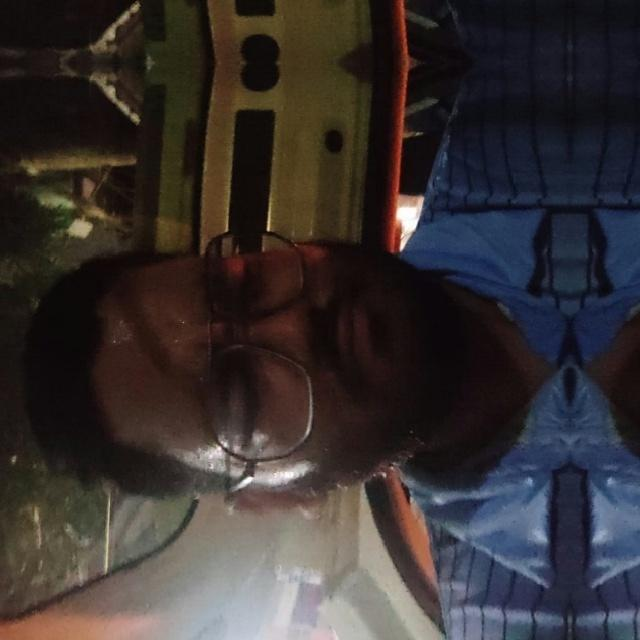Disgust: (90, 106, 516, 618)
